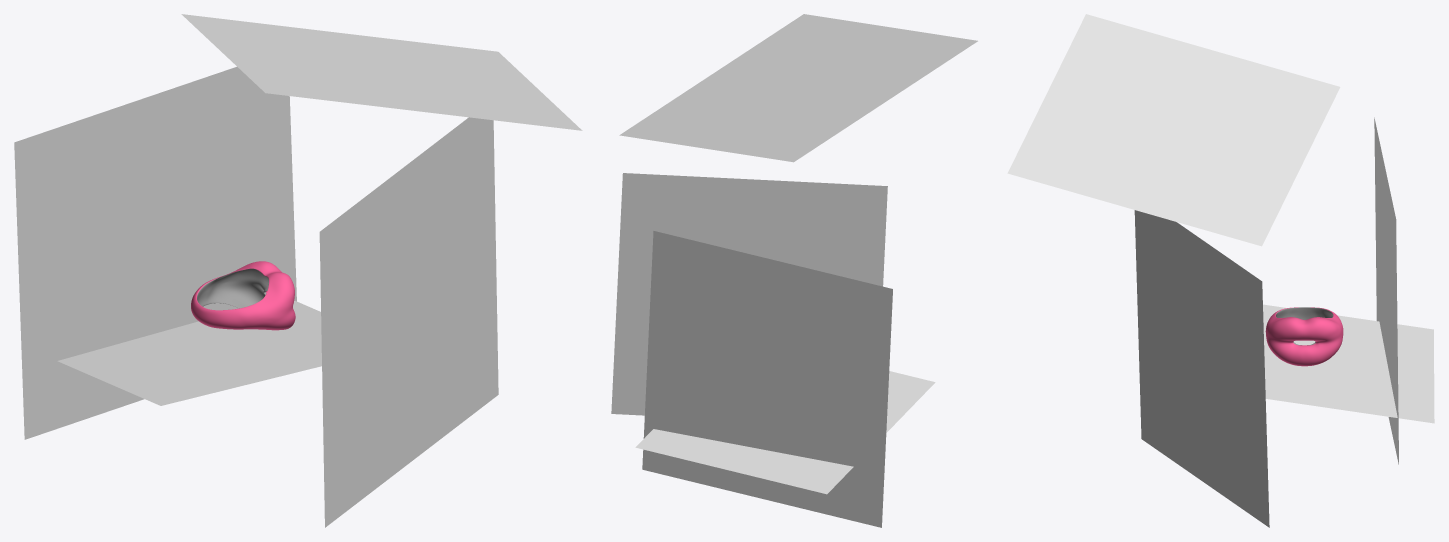
File: Hotlips Base Link File.gltf
3 views of the same model, side by side, from view 1: azimuth 30°, elevation 25°; view 2: azimuth 150°, elevation 25°; view 3: azimuth 270°, elevation 25° (orthographic). The views are drawn at different scales.
Parts seen in each view (by area): view 1: Plane.001, Plane.002, Plane, Plane.003, Bubblegum Pink; view 2: Plane.001, Plane.002, Plane, Plane.003; view 3: Plane, Plane.002, Plane.003, Plane.001, Bubblegum Pink.
Boxes of the visible parts, left/top/right/bottom form: Plane.001: left=14, top=67, right=296, bottom=439; Plane.002: left=319, top=117, right=498, bottom=527; Plane: left=181, top=14, right=582, bottom=130; Plane.003: left=57, top=300, right=321, bottom=405; Bubblegum Pink: left=191, top=261, right=295, bottom=330; Plane.001: left=642, top=231, right=892, bottom=527; Plane.002: left=611, top=173, right=887, bottom=415; Plane: left=619, top=14, right=977, bottom=162; Plane.003: left=635, top=371, right=935, bottom=494; Plane: left=1007, top=14, right=1340, bottom=246; Plane.002: left=1134, top=210, right=1269, bottom=527; Plane.003: left=1263, top=304, right=1434, bottom=423; Plane.001: left=1374, top=117, right=1398, bottom=464; Bubblegum Pink: left=1265, top=307, right=1343, bottom=366.
Size of the model in its own units: 10.99 by 12.1 by 12.06.
